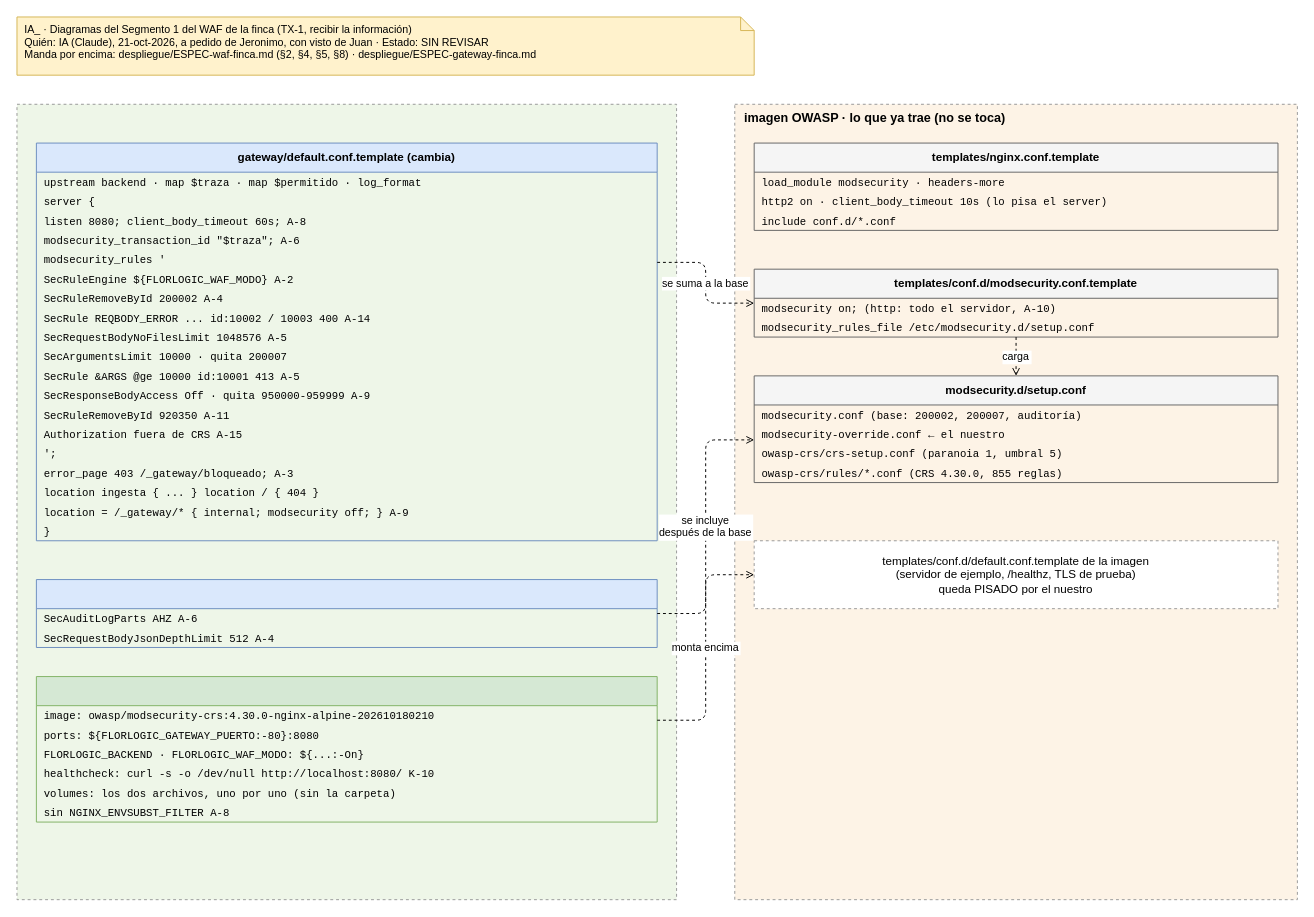
Image size: 1314x917. Some labels were removed from this diagram. The shapes that lost their labels are listed below. From the top down, each one's box as (x1, y1, x2, y2) in pixels, then its label:
(16, 103, 677, 900): repo · codigo/despliegue/
(35, 579, 657, 647): gateway/modsecurity-override.conf.template (nuevo)
(35, 676, 657, 822): compose.yaml · servicio gateway (cambia)
